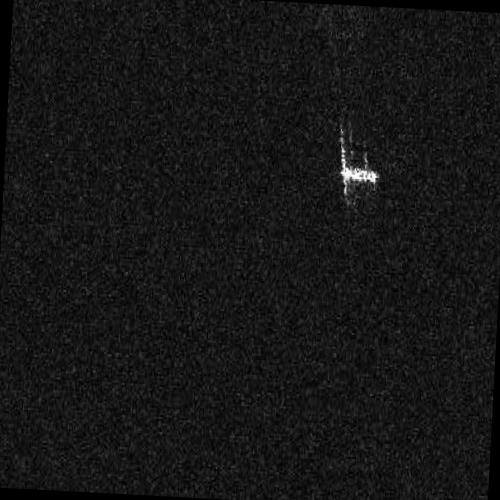ship: (339, 164, 378, 184)
